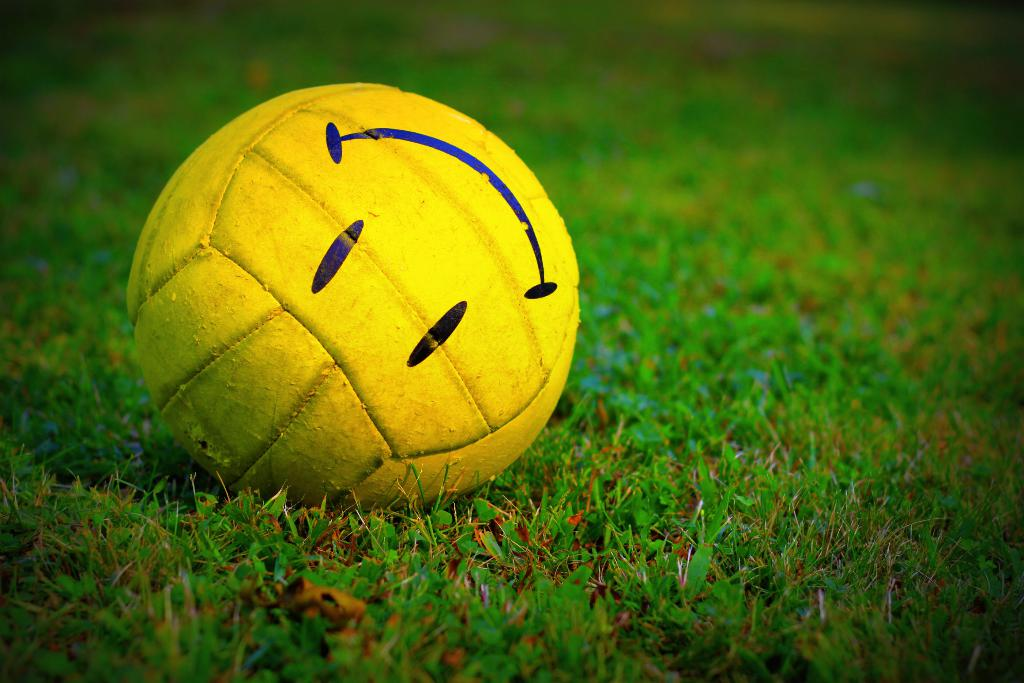Ball: (125, 80, 582, 513)
